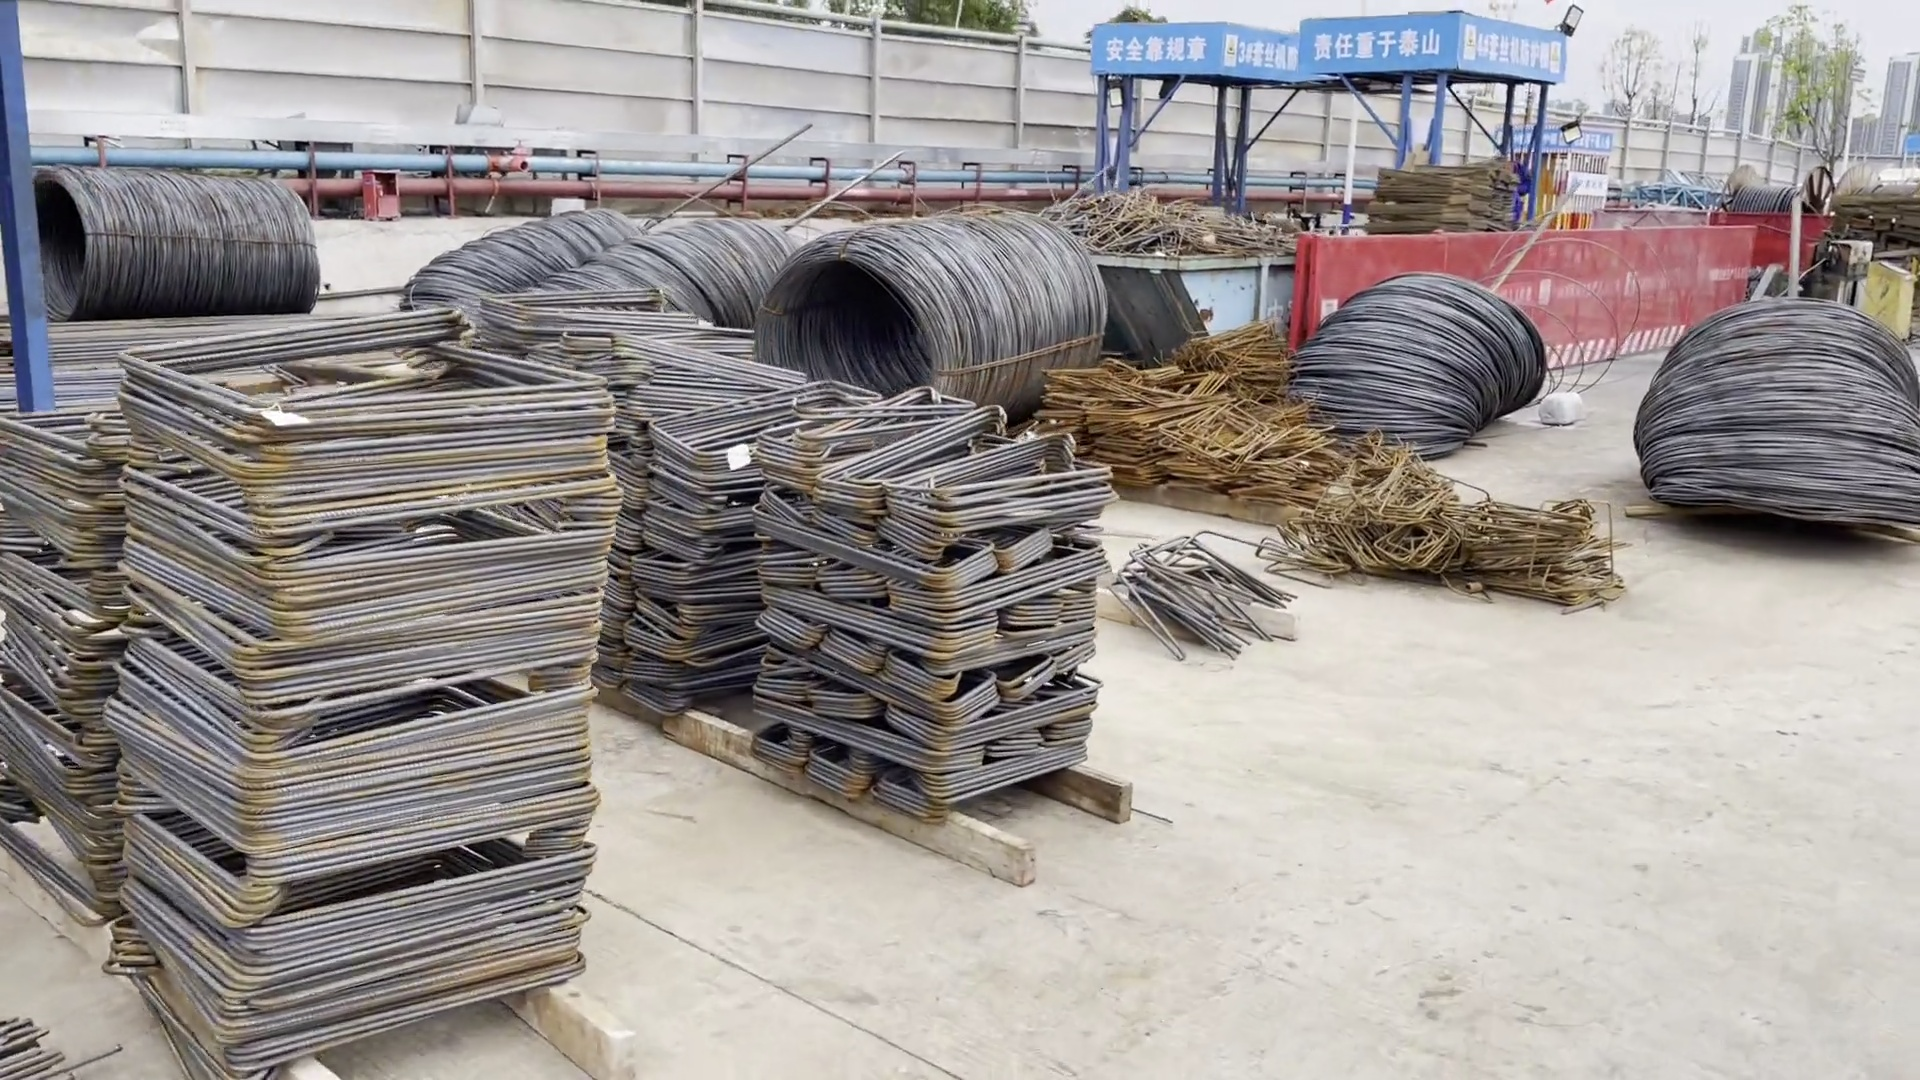ebox: (1861, 249, 1920, 338)
fence: (1276, 218, 1772, 376), (1702, 207, 1840, 293)
hopper: (1081, 225, 1294, 361)
rebar: (40, 320, 137, 411)
slogan: (1062, 11, 1584, 107), (1491, 119, 1623, 162)
